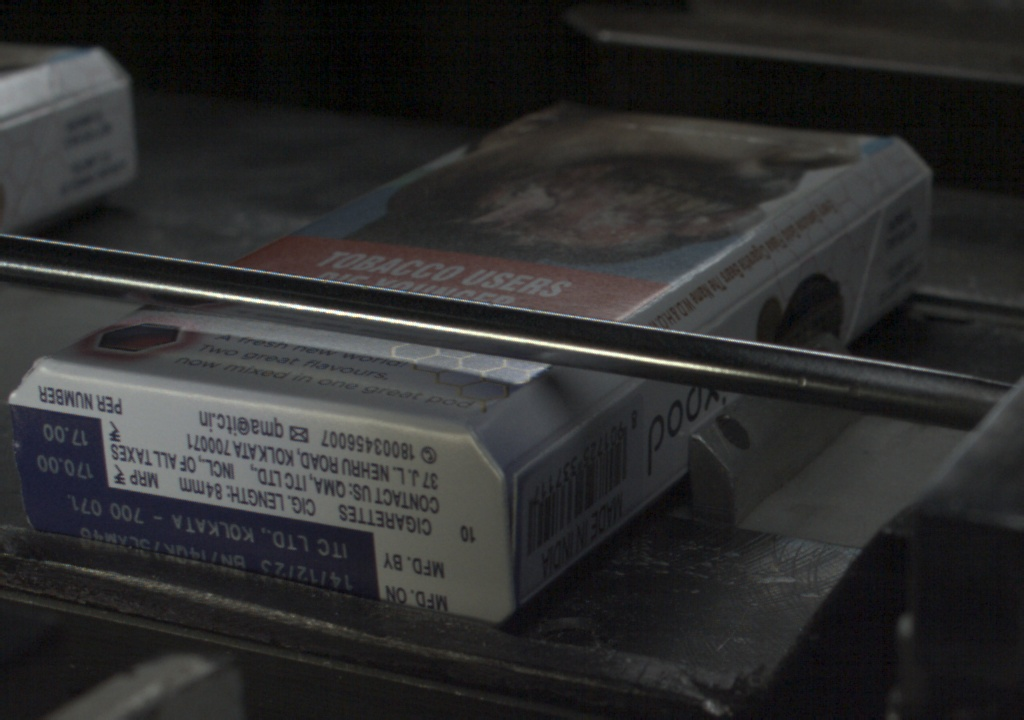g_bottom: (7, 363, 513, 634)
g_label: (20, 488, 378, 606)
g_lmiter: (510, 423, 582, 484), (572, 382, 637, 437), (810, 209, 868, 248), (696, 293, 748, 334), (748, 251, 800, 292)
g_miter: (880, 175, 930, 206)
price: (16, 412, 104, 488)
